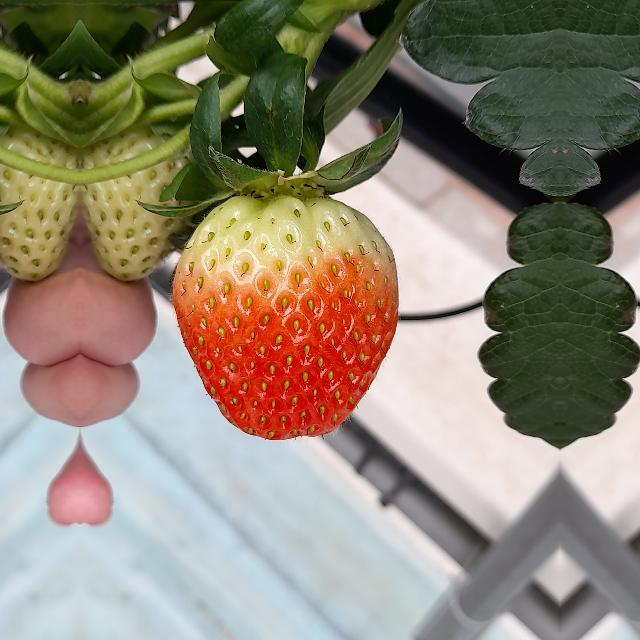Health_25: (81, 99, 192, 279), (0, 99, 78, 279)
Health_75: (172, 194, 398, 440)
